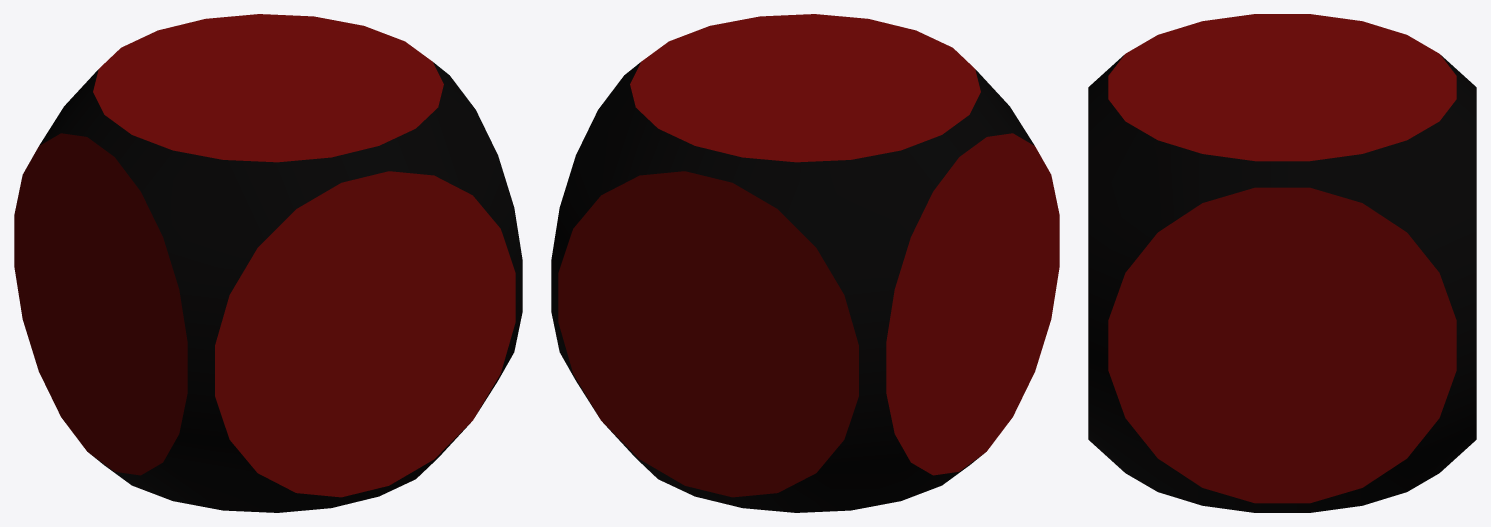
File: FireEnnemyDice.FBX
The picture shows the model from 3 angles, left to right: view 1: azimuth 30°, elevation 25°; view 2: azimuth 150°, elevation 25°; view 3: azimuth 270°, elevation 25°; orthographic projection.
Visible parts, largest first — view 1: SM_FireEnemyDice; view 2: SM_FireEnemyDice; view 3: SM_FireEnemyDice.
Boxes of the visible parts, x1,y1,x2,y2 form: SM_FireEnemyDice: (14, 14, 522, 512); SM_FireEnemyDice: (551, 14, 1059, 512); SM_FireEnemyDice: (1088, 14, 1476, 512).
Bounding box in the file's own units: 81.69 × 81.69 × 81.69.
